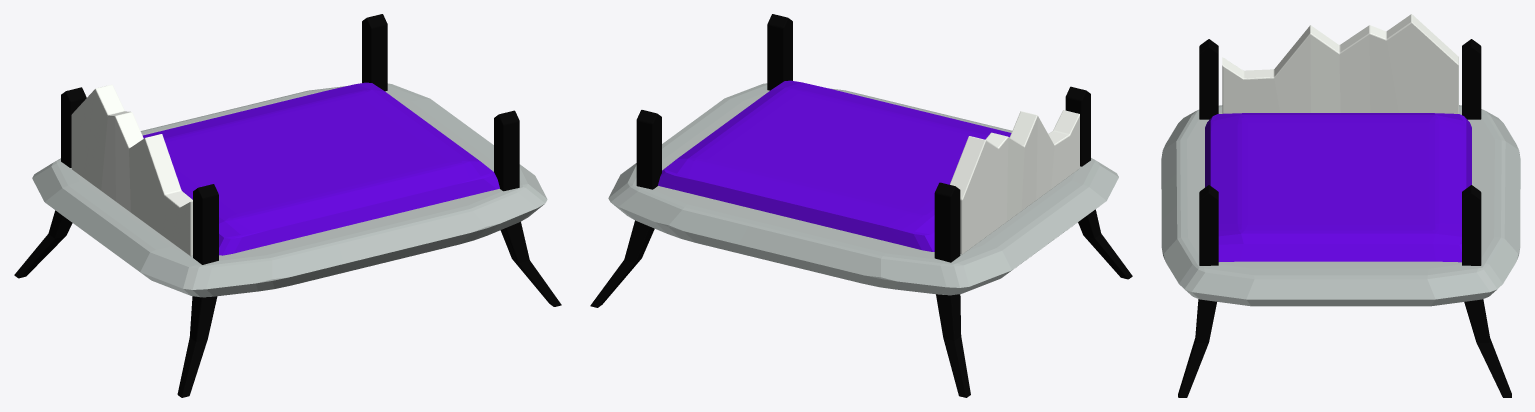
The model's file is bigBed.glb.
3 views of the same model, side by side, from view 1: azimuth 30°, elevation 25°; view 2: azimuth 150°, elevation 25°; view 3: azimuth 270°, elevation 25° (orthographic).
Visible parts, largest first — view 1: Cube.003, Cube, Cube.001, Cube.002; view 2: Cube.003, Cube, Cube.001, Cube.002; view 3: Cube.003, Cube, Cube.002, Cube.001.
Boxes of the visible parts, <box> form: Cube.003: <box>143,82,499,255</box>; Cube: <box>32,83,547,297</box>; Cube.001: <box>14,14,561,397</box>; Cube.002: <box>71,84,192,256</box>; Cube.003: <box>658,80,1011,251</box>; Cube: <box>608,83,1118,295</box>; Cube.001: <box>590,14,1132,397</box>; Cube.002: <box>950,110,1079,254</box>; Cube.003: <box>1205,113,1471,262</box>; Cube: <box>1161,105,1520,306</box>; Cube.002: <box>1222,14,1458,113</box>; Cube.001: <box>1178,39,1511,397</box>.
Bounding box in the file's own units: 9.49 × 4.96 × 7.51.
